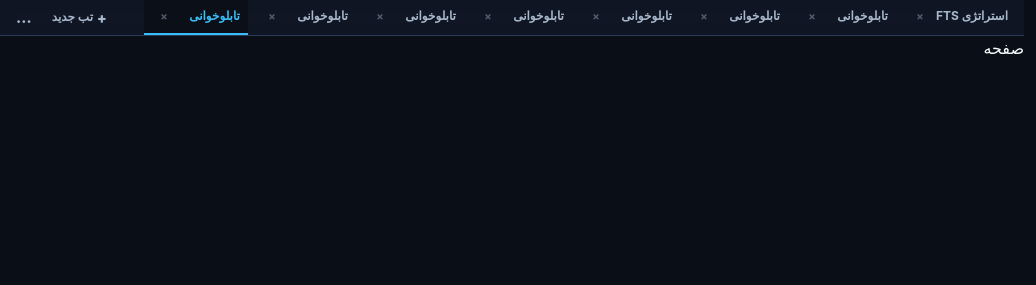
it: تب‌های فضای کاری (الگویِ ARIA APG باِ تطبیقِ RTL) › منیوی «…» هنگامِ شلوغی، همهٔ تب‌ها وِ میانبرها را قابل‌دسترس می‌کند
Click the button with test id "ws-tab-menu": (24, 18) [8,6,40,30]
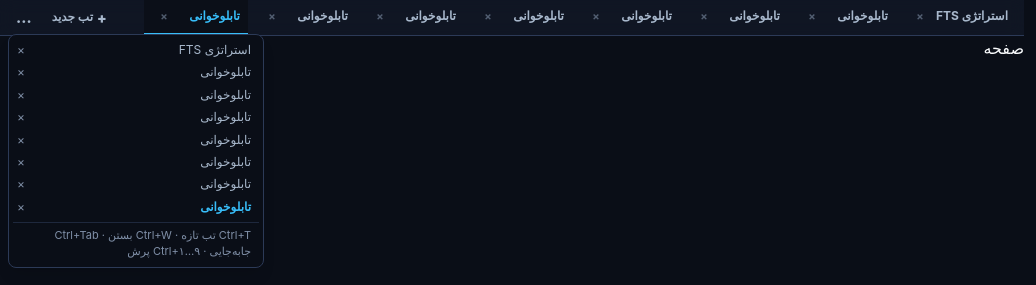
Check: the text "Ctrl+T" is shown, box [54,228,251,258]
